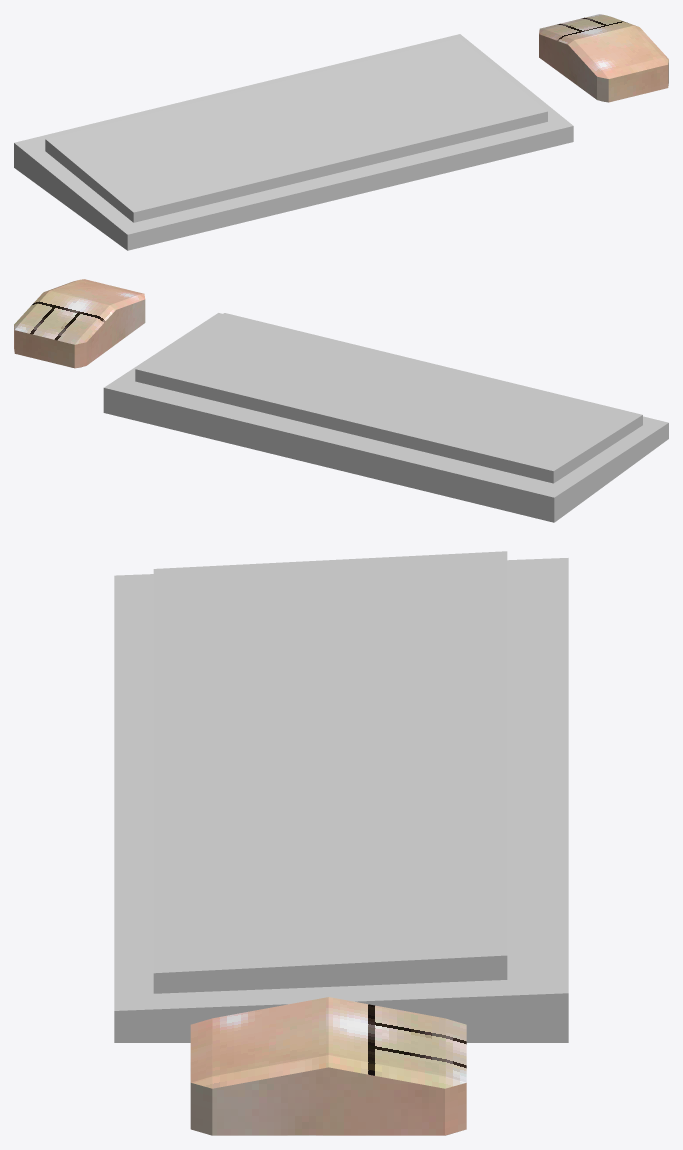
File: Keyboard_mouse.glb
3 renders of one model, top to bottom at view 1: azimuth 30°, elevation 25°; view 2: azimuth 150°, elevation 25°; view 3: azimuth 270°, elevation 25°, orthographic. The views are drawn at different scales.
Visible parts, largest first — view 1: Keyboard, Mouse; view 2: Keyboard, Mouse; view 3: Keyboard, Mouse.
Part boxes in pixels (x1,y1,x2,y2): Keyboard: (14,34,573,250); Mouse: (539,14,668,102); Keyboard: (103,313,668,522); Mouse: (14,279,145,368); Keyboard: (114,551,568,1042); Mouse: (190,997,466,1135).
Size of the model in its own units: 2.54 by 0.2119 by 0.8817.
2 materials, 1 textured.
